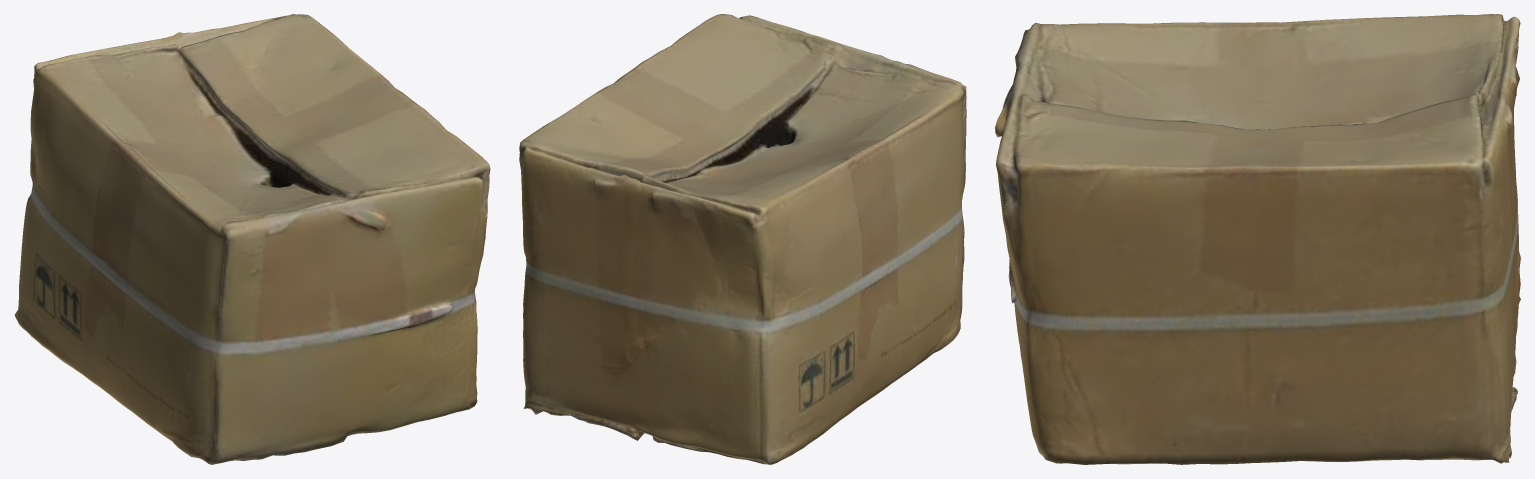
The model's file is cardboard_box_01.glb.
3 renders of one model, left to right at view 1: azimuth 30°, elevation 25°; view 2: azimuth 150°, elevation 25°; view 3: azimuth 270°, elevation 25°, orthographic. The views are drawn at different scales.
Visible parts, largest first — view 1: cardboard_box_01; view 2: cardboard_box_01; view 3: cardboard_box_01.
Boxes of the visible parts, bbox=[...] form: cardboard_box_01: bbox=[14, 14, 490, 464]; cardboard_box_01: bbox=[519, 14, 966, 464]; cardboard_box_01: bbox=[995, 14, 1520, 464].
Bounding box in the file's own units: 0.387 × 0.3418 × 0.5159.
1 material, 1 textured.
